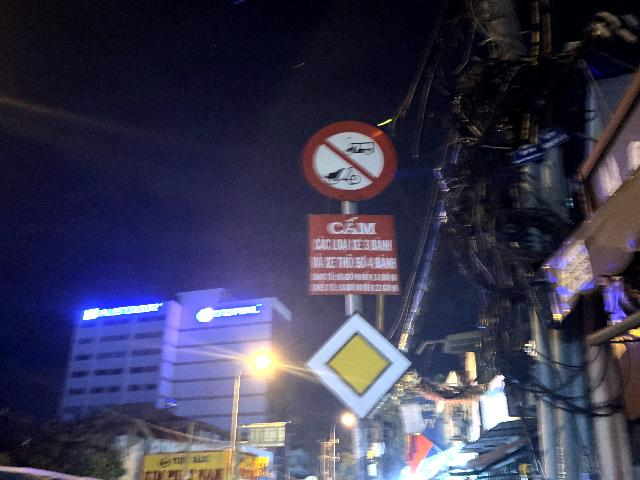bat-dau-duong-uu-tien: (303, 310, 413, 419)
cam-xe-3-banh-xe-tho-so-4-banh: (302, 120, 399, 202)
